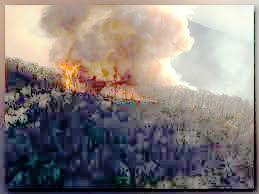fire: (44, 57, 192, 110)
